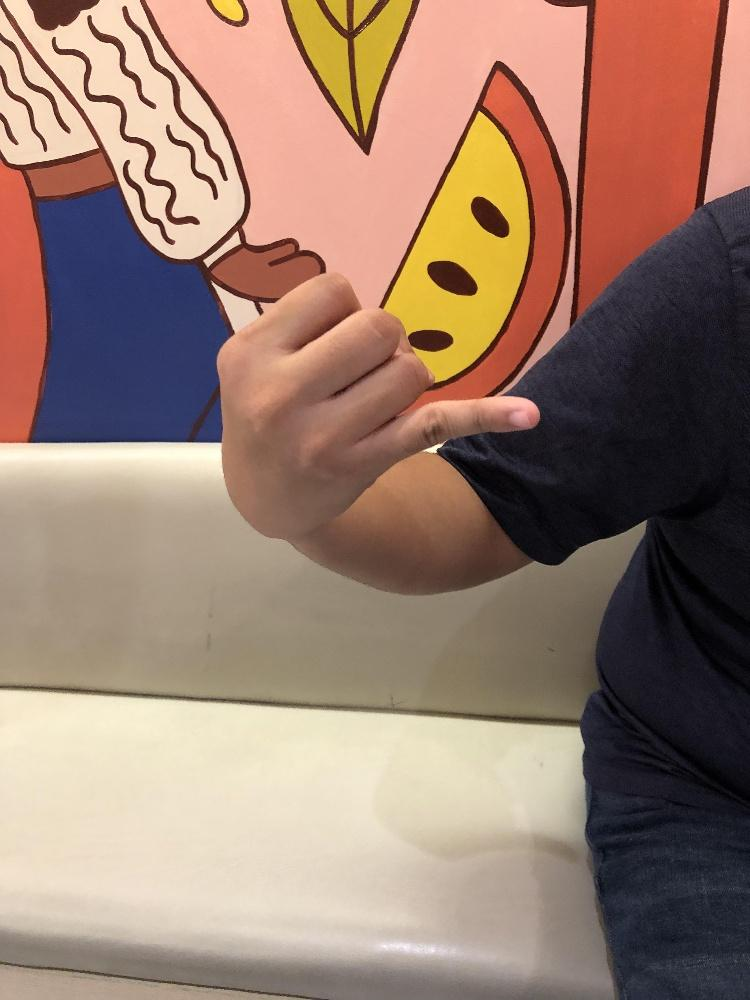j: (213, 268, 542, 542)
